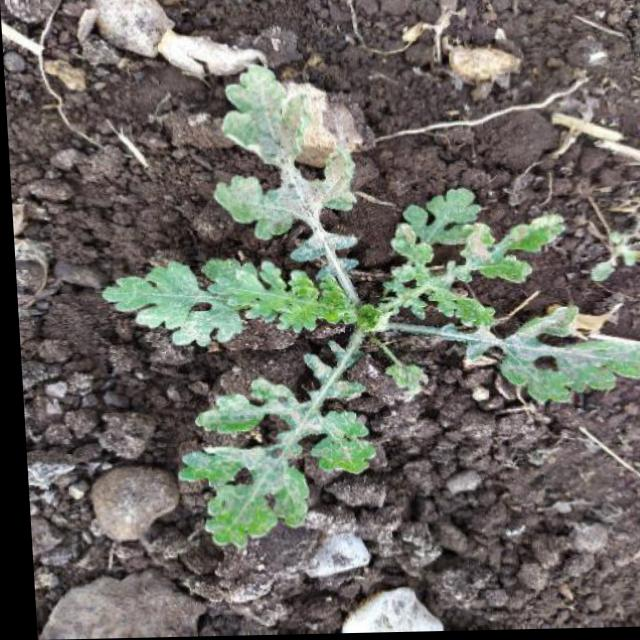weed: (98, 65, 640, 537)
